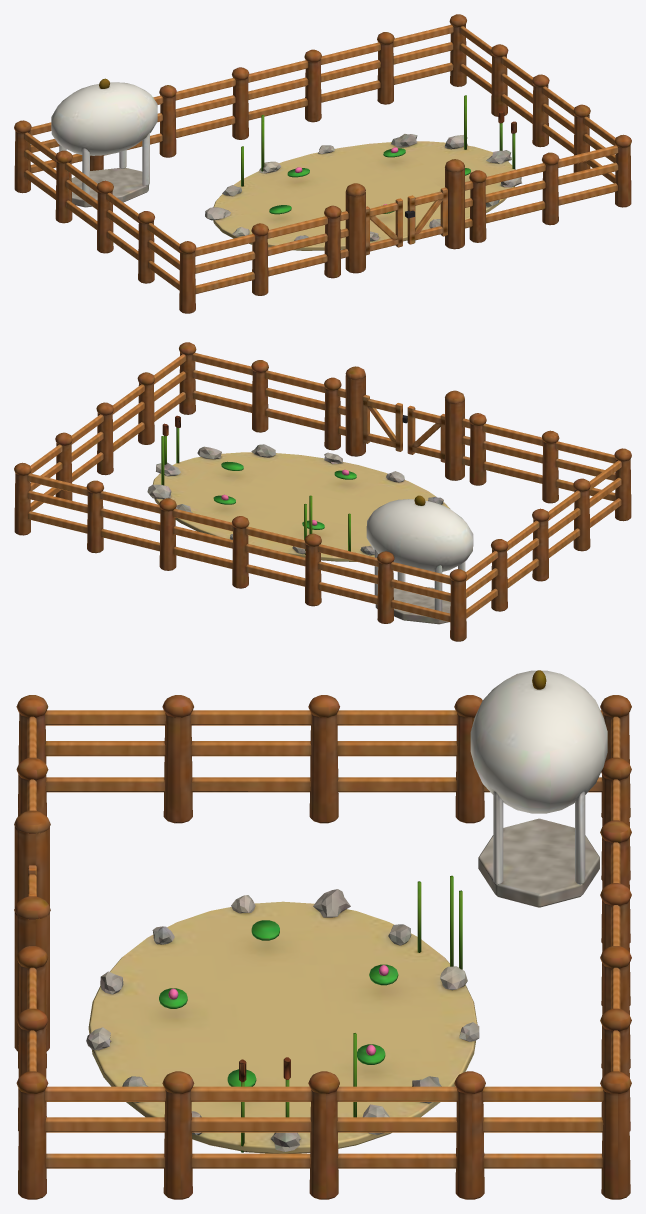
The model's file is black_swan_lake.glb.
3 renders of one model, top to bottom at view 1: azimuth 30°, elevation 25°; view 2: azimuth 150°, elevation 25°; view 3: azimuth 270°, elevation 25°, orthographic. The views are drawn at different scales.
Parts seen in each view (by area): view 1: black_swan_lake, gate1, gate0; view 2: black_swan_lake, gate1, gate0; view 3: black_swan_lake.
Boxes of the visible parts, <box> form: black_swan_lake: <box>14,14,631,313</box>; gate1: <box>405,187,447,244</box>; gate0: <box>366,198,402,255</box>; black_swan_lake: <box>14,342,631,641</box>; gate1: <box>363,394,407,451</box>; gate0: <box>407,405,444,462</box>; black_swan_lake: <box>14,670,631,1199</box>.
Bounding box in the file's own units: 3 × 0.715 × 2.01.
Materials: 1 (1 with a texture image).
